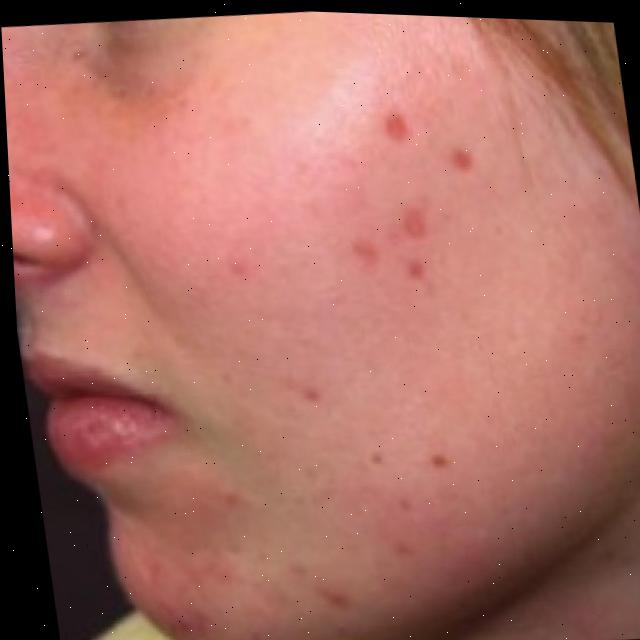Acne: (99, 467, 407, 640), (288, 94, 459, 313)
